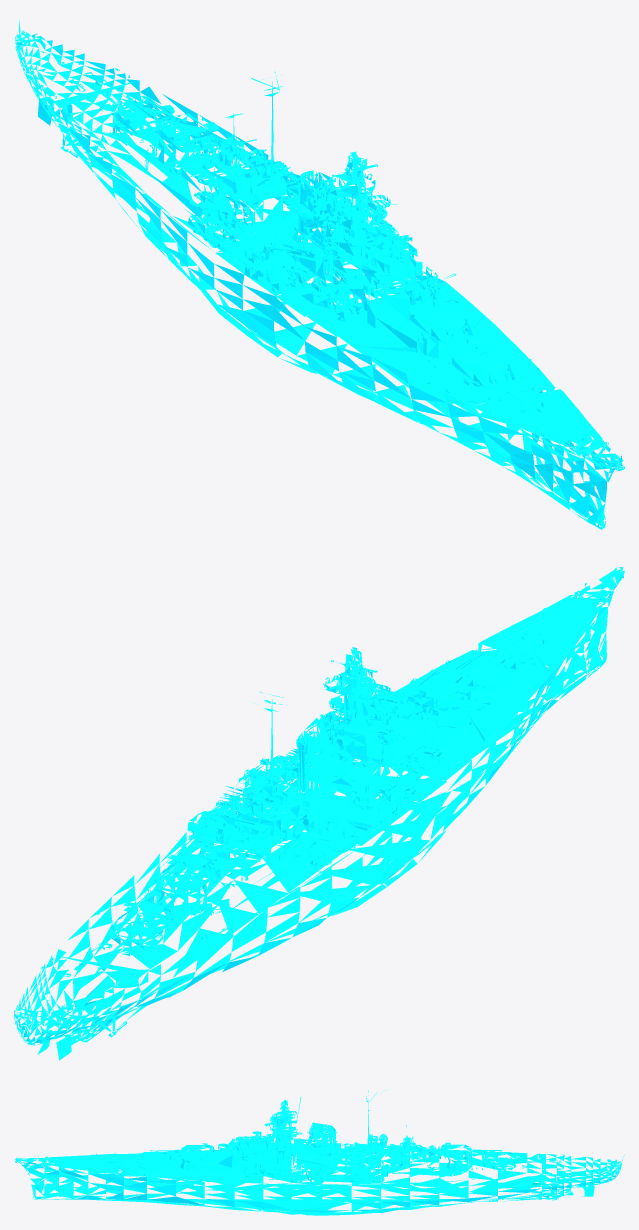
The model's file is PGSB002.glb.
The picture shows the model from 3 angles, top to bottom: view 1: azimuth 30°, elevation 25°; view 2: azimuth 150°, elevation 25°; view 3: azimuth 270°, elevation 25°; orthographic projection. The views are drawn at different scales.
Parts seen in each view (by area): view 1: hull, turret; view 2: hull, turret; view 3: hull, turret.
Boxes of the visible parts, box(x1,y1,x2,y2) form: hull: box(15, 20, 624, 529); turret: box(87, 79, 538, 402); hull: box(14, 567, 624, 1060); turret: box(87, 635, 538, 958); hull: box(15, 1090, 624, 1215); turret: box(107, 1139, 546, 1182).
Size of the model in its own units: 2.46 by 3.34 by 16.81.
